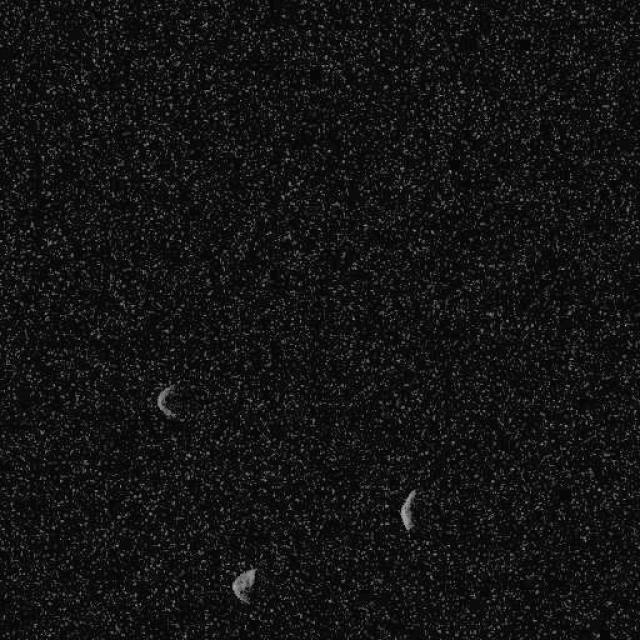D2: (230, 566, 256, 604), (398, 488, 418, 532), (155, 384, 179, 418)
